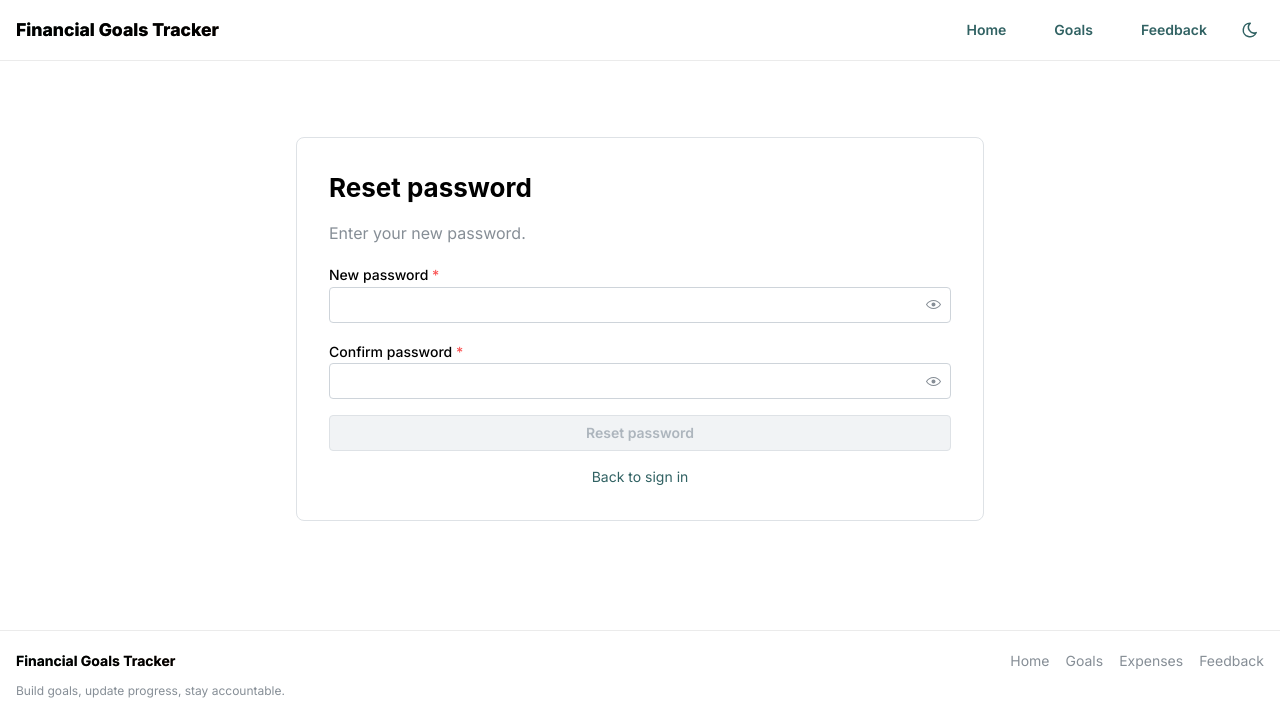
it: Reset Password Page › shows success state after successful reset
Type "newpassword123" into the password field labelled "New password *" at (640, 305), box [330,288,950,322]
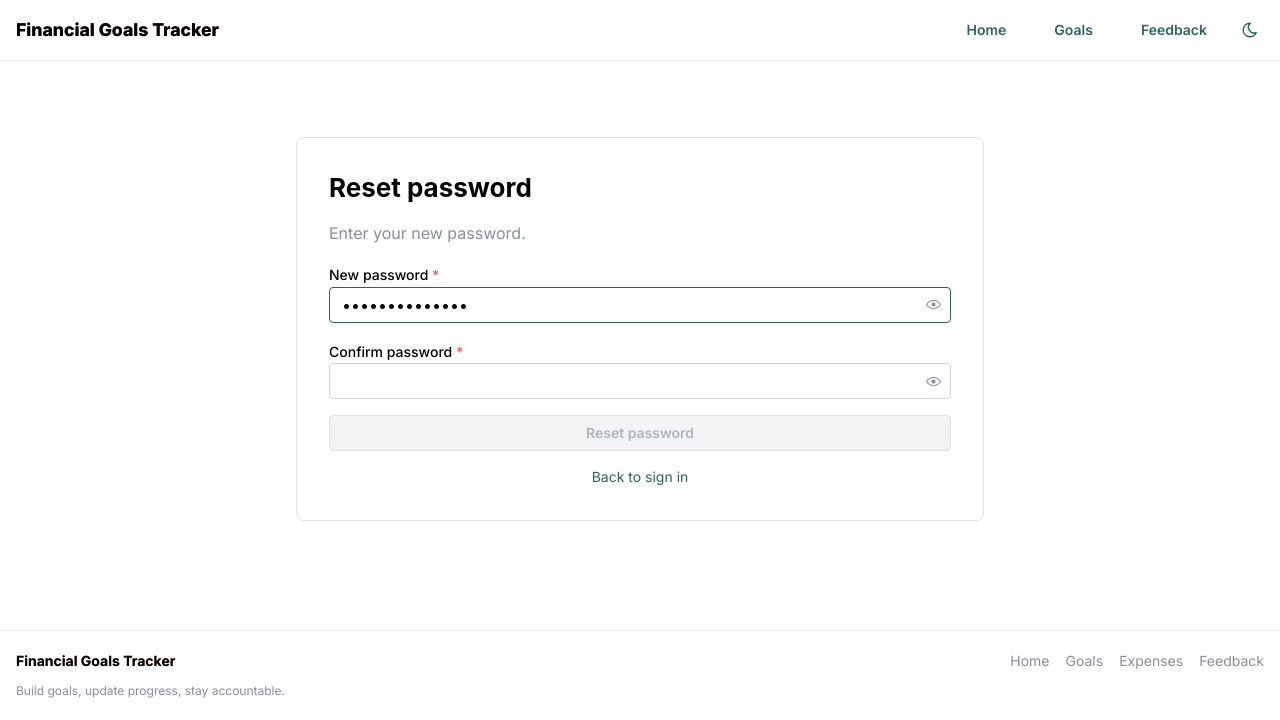
Type "newpassword123" into the password field labelled "Confirm password *" at (640, 382), box [330,365,950,399]
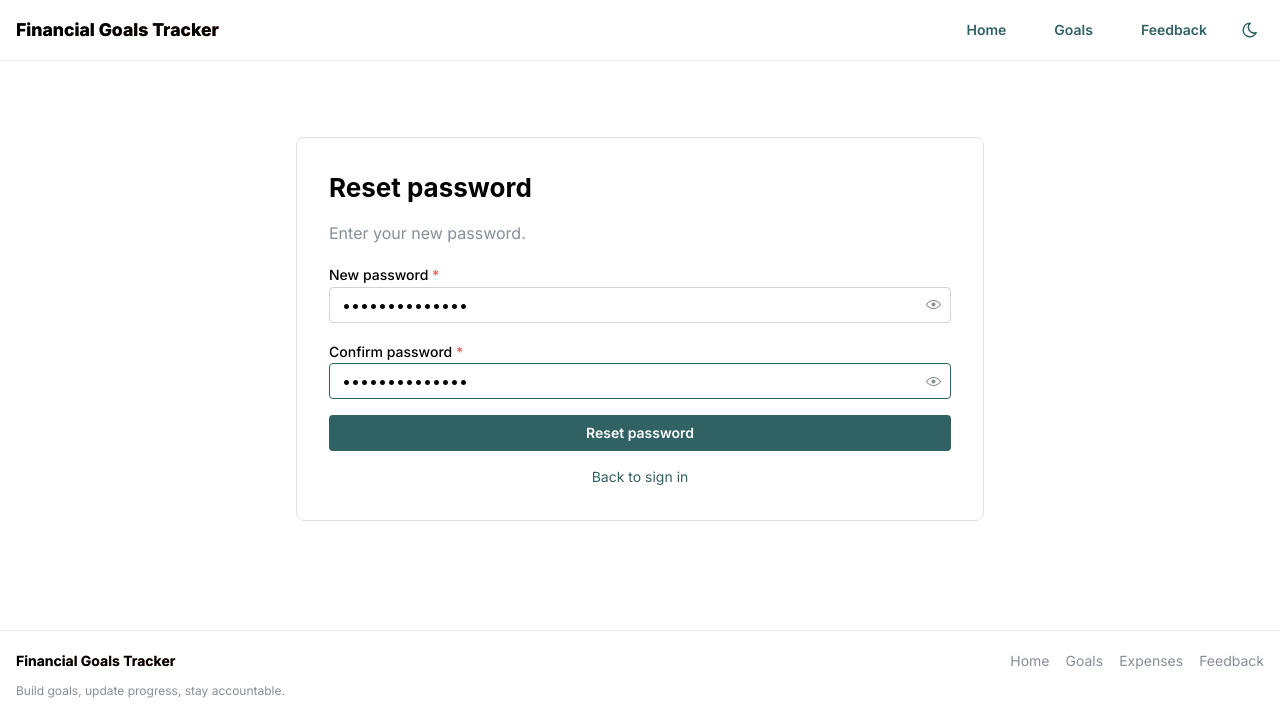
Click the button "Reset password" at (640, 434), box [329,416,951,452]
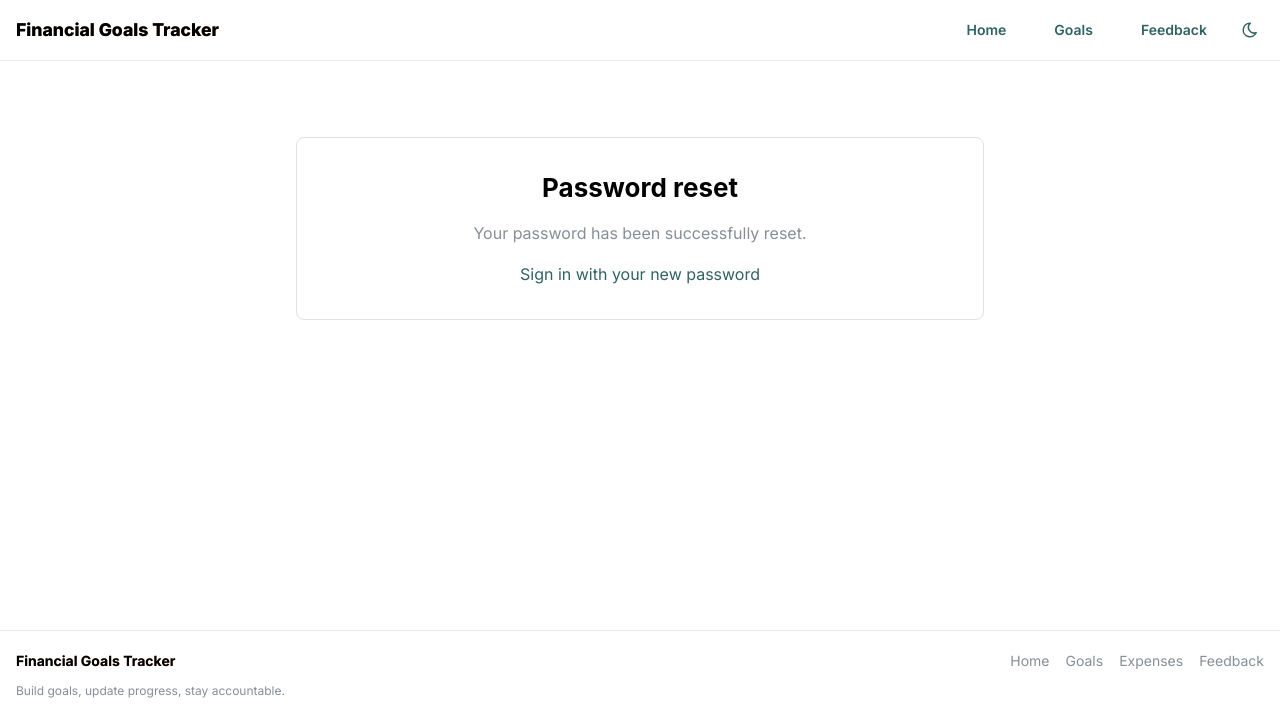
Check: the heading "Password reset" is shown, box [542,170,738,205]
Check: the text "successfully reset" is shown, box [473,223,806,243]
Check: the link "Sign in with your new password" is shown, box [520,262,760,287]
